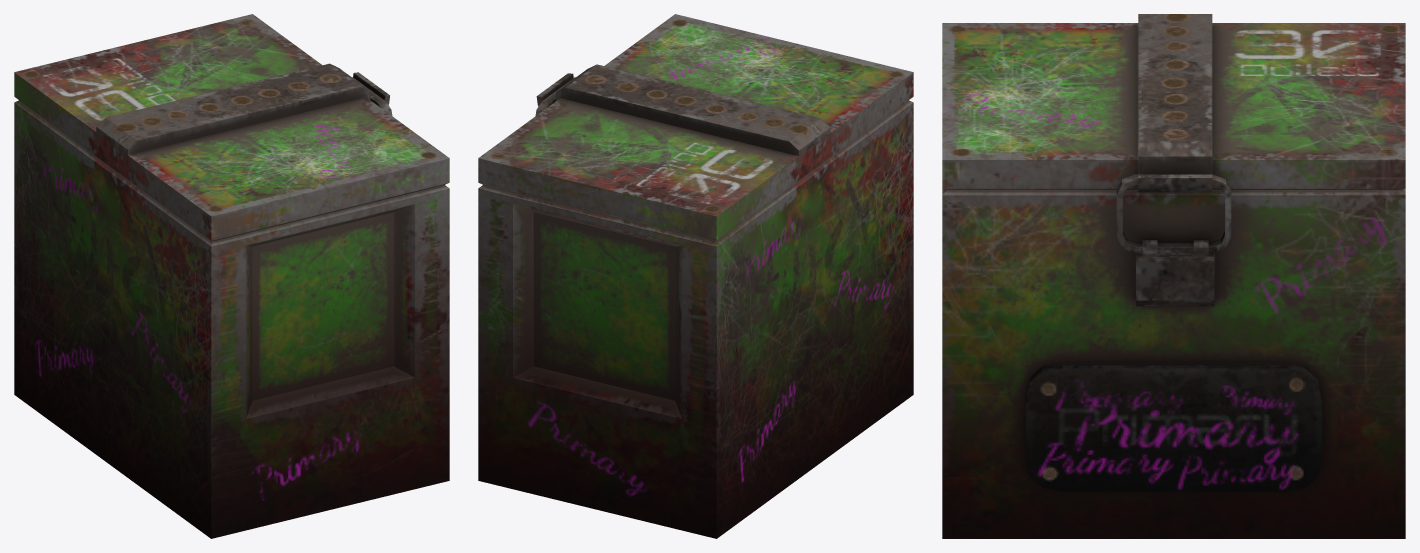
File: PrimaryBox.FBX
The picture shows the model from 3 angles, left to right: view 1: azimuth 30°, elevation 25°; view 2: azimuth 150°, elevation 25°; view 3: azimuth 270°, elevation 25°; orthographic projection. The views are drawn at different scales.
Parts seen in each view (by area): view 1: PrimaryBox; view 2: PrimaryBox; view 3: PrimaryBox.
Part boxes in pixels (x1,y1,x2,y2): PrimaryBox: (14, 14, 449, 538); PrimaryBox: (478, 14, 913, 538); PrimaryBox: (942, 14, 1405, 538).
Bounding box in the file's own units: 14 × 17.09 × 18.23.
